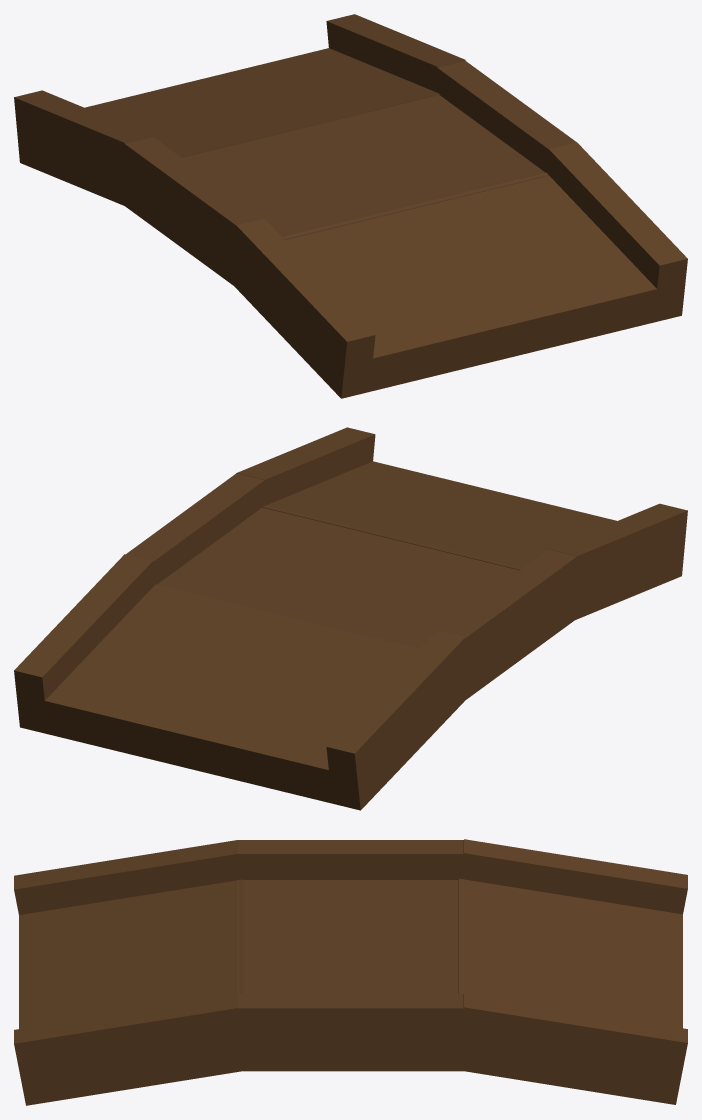
File: bridge.fbx
3 renders of one model, top to bottom at view 1: azimuth 30°, elevation 25°; view 2: azimuth 150°, elevation 25°; view 3: azimuth 270°, elevation 25°, orthographic.
Visible parts, largest first — view 1: bridge1; view 2: bridge1; view 3: bridge1.
Part boxes in pixels (x1=…): bridge1: x1=14, y1=14, x2=687, y2=398; bridge1: x1=14, y1=427, x2=687, y2=810; bridge1: x1=14, y1=839, x2=687, y2=1105.
Bounding box in the file's own units: 365 × 99.61 × 618.
